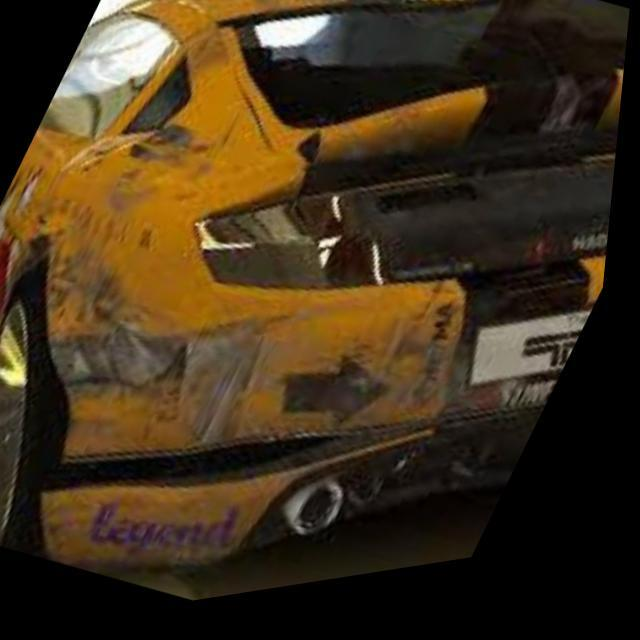dent: (115, 122, 233, 227), (356, 0, 563, 21)
rub: (58, 239, 277, 458), (351, 338, 536, 438), (531, 85, 597, 158)
